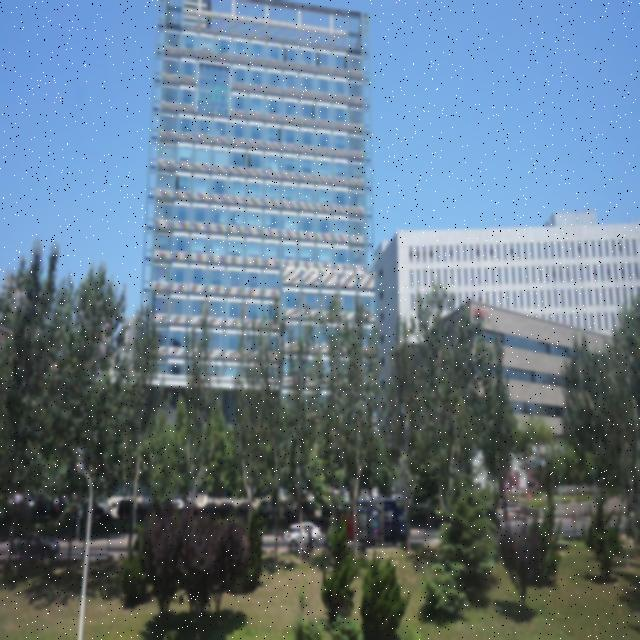UAV: (332, 280, 343, 288)
